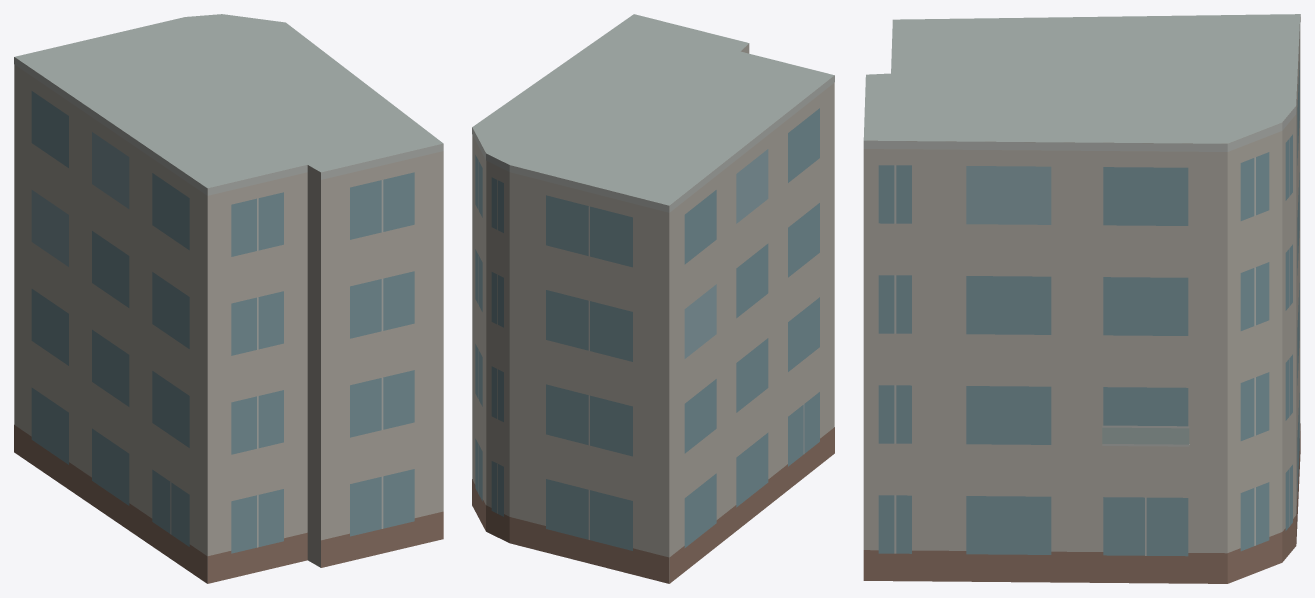
Rendered from survey-upis-32557137.glb.
The picture shows the model from 3 angles, left to right: view 1: azimuth 30°, elevation 25°; view 2: azimuth 150°, elevation 25°; view 3: azimuth 270°, elevation 25°; orthographic projection. The views are drawn at different scales.
Visible parts, largest first — view 1: survey-upis-32557137.tmp; view 2: survey-upis-32557137.tmp; view 3: survey-upis-32557137.tmp.
Boxes of the visible parts, x1,y1,x2,y2 form: survey-upis-32557137.tmp: (14,14,443,583); survey-upis-32557137.tmp: (472,14,834,583); survey-upis-32557137.tmp: (863,14,1300,583).
Bounding box in the file's own units: 8.18 × 12.9 × 11.61.
